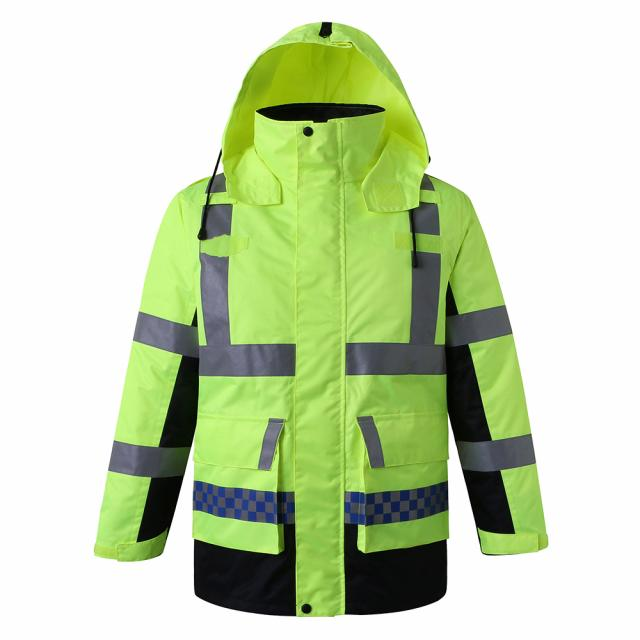Reflective-Jacket: (86, 26, 582, 640)
